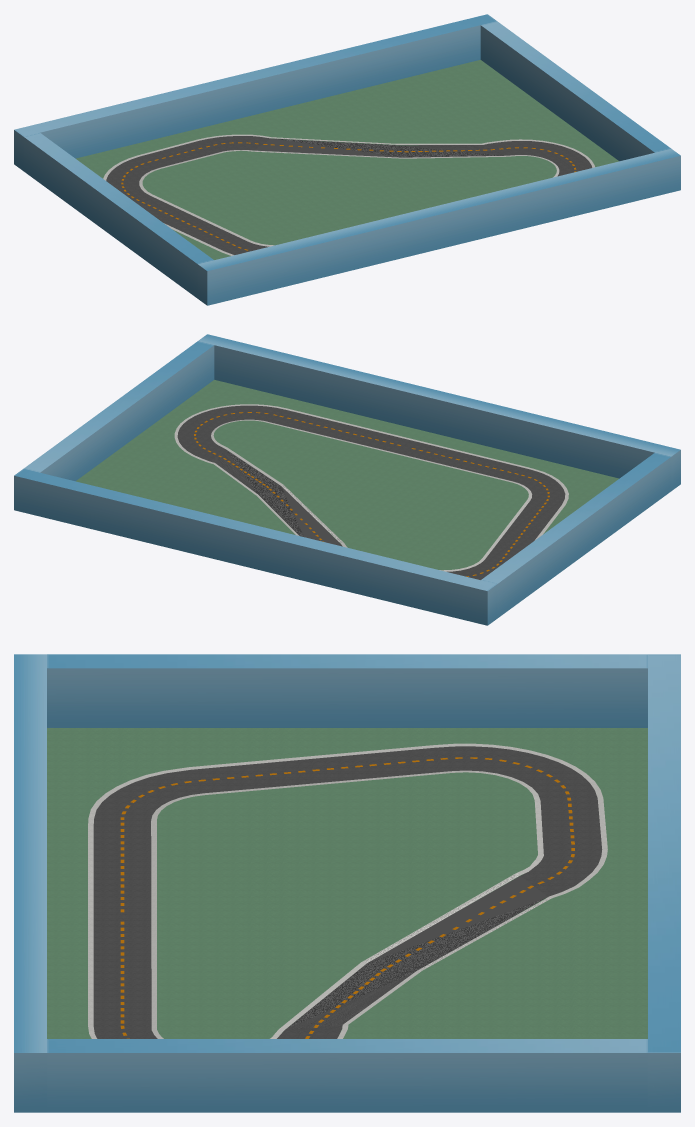
File: Track4_and_Wall.dae
The picture shows the model from 3 angles, top to bottom: view 1: azimuth 30°, elevation 25°; view 2: azimuth 150°, elevation 25°; view 3: azimuth 270°, elevation 25°; orthographic projection. The views are drawn at different scales.
Visible parts, largest first — view 1: field, bottomWall, topWall, Track1, leftWall, rightWall, whiteLines, dottedLine; view 2: field, topWall, bottomWall, Track1, leftWall, rightWall, whiteLines, dottedLine; view 3: field, leftWall, rightWall, Track1, bottomWall, topWall, whiteLines, dottedLine.
Boxes of the visible parts, <box> form: field: <box>76,60,618,259</box>; bottomWall: <box>197,148,680,305</box>; topWall: <box>14,14,496,170</box>; Track1: <box>106,136,592,254</box>; leftWall: <box>23,132,213,298</box>; rightWall: <box>480,21,670,161</box>; whiteLines: <box>103,134,594,255</box>; dottedLine: <box>121,142,576,250</box>; field: <box>76,380,618,570</box>; topWall: <box>14,468,497,625</box>; bottomWall: <box>198,334,680,490</box>; Track1: <box>177,405,565,579</box>; leftWall: <box>481,452,671,618</box>; rightWall: <box>24,341,214,481</box>; whiteLines: <box>174,404,568,571</box>; dottedLine: <box>194,412,549,576</box>; field: <box>47,728,647,1038</box>; leftWall: <box>47,654,647,727</box>; rightWall: <box>47,1039,647,1112</box>; Track1: <box>93,746,602,1038</box>; bottomWall: <box>14,654,46,1112</box>; topWall: <box>648,654,680,1112</box>; whiteLines: <box>88,743,607,1038</box>; dottedLine: <box>120,757,574,1038</box>.
Bounding box in the file's own units: 7.17 × 5.07 × 0.5.
Materials: 5 (5 with a texture image).
